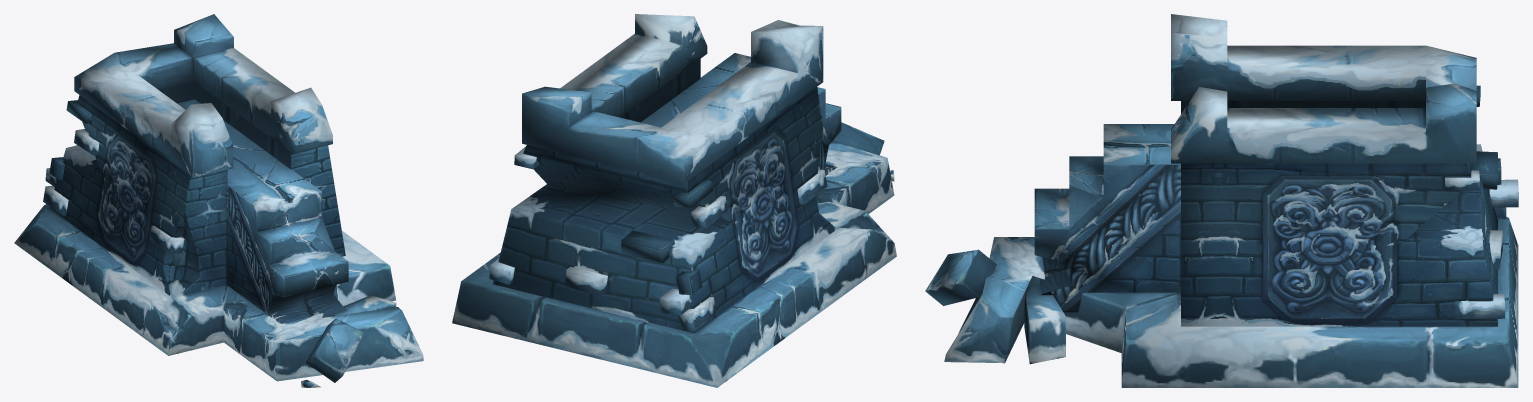
File: Stage_BingYuan_FengHuoTai02.FBX
The picture shows the model from 3 angles, left to right: view 1: azimuth 30°, elevation 25°; view 2: azimuth 150°, elevation 25°; view 3: azimuth 270°, elevation 25°; orthographic projection. The views are drawn at different scales.
Parts seen in each view (by area): view 1: Stage_BingYuan_FengHuoTai02; view 2: Stage_BingYuan_FengHuoTai02; view 3: Stage_BingYuan_FengHuoTai02.
Boxes of the visible parts, x1,y1,x2,y2 form: Stage_BingYuan_FengHuoTai02: (14, 14, 423, 387); Stage_BingYuan_FengHuoTai02: (452, 14, 896, 387); Stage_BingYuan_FengHuoTai02: (925, 14, 1518, 387).
Bounding box in the file's own units: 353 × 305 × 619.
